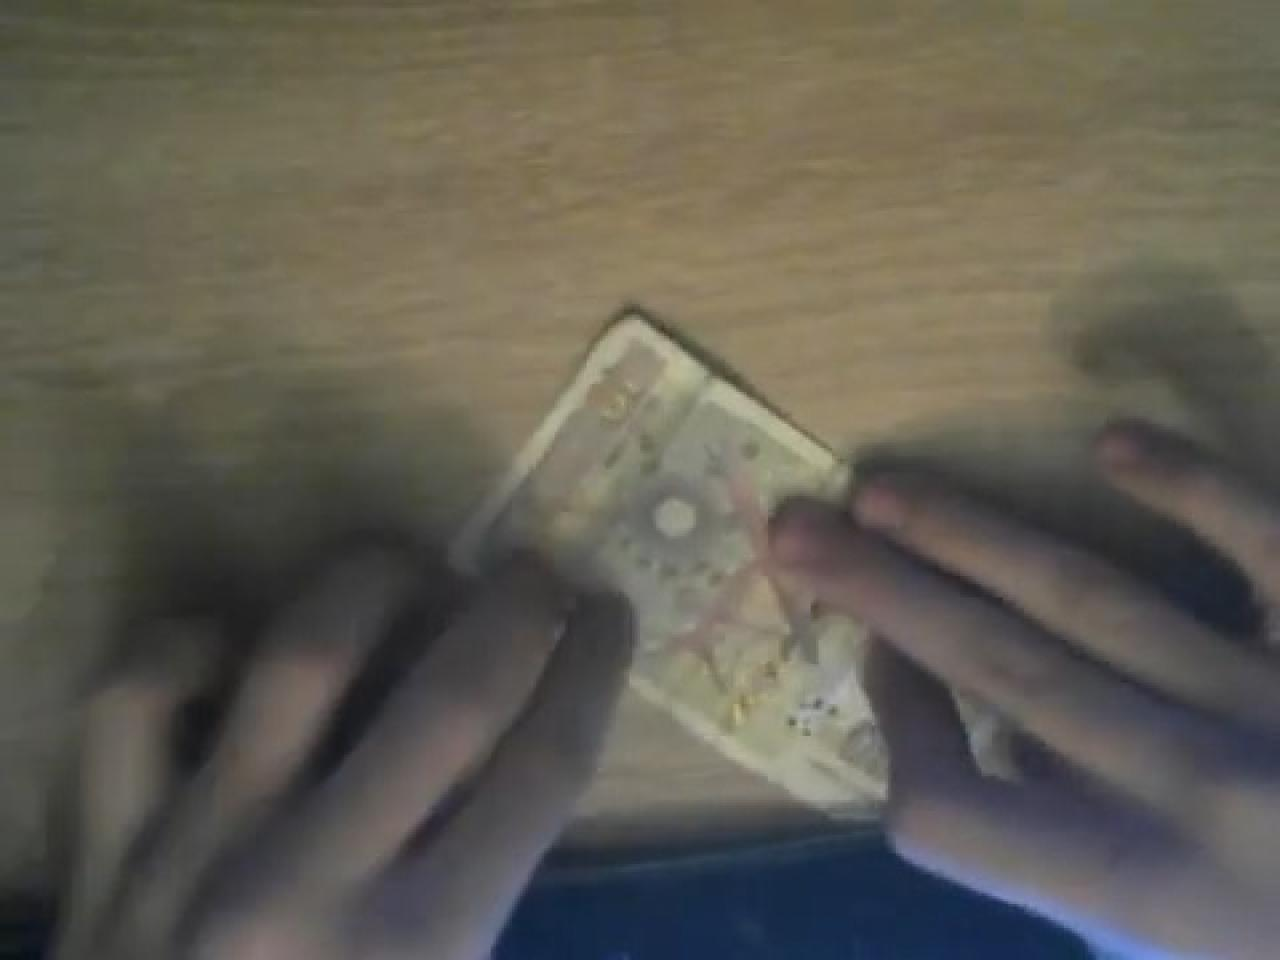10leva: (456, 304, 880, 816)
